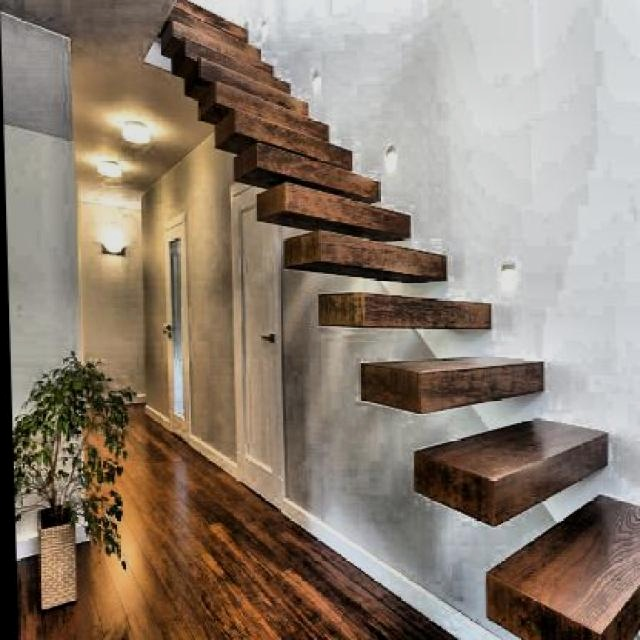stair: (251, 45, 638, 517)
